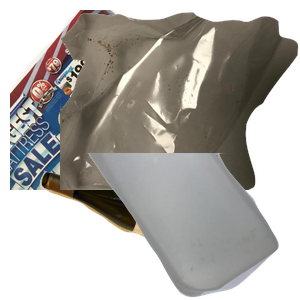glass: (37, 168, 242, 300)
paper: (10, 10, 240, 190)
plastic: (84, 153, 300, 300)
trash: (60, 10, 300, 190)
